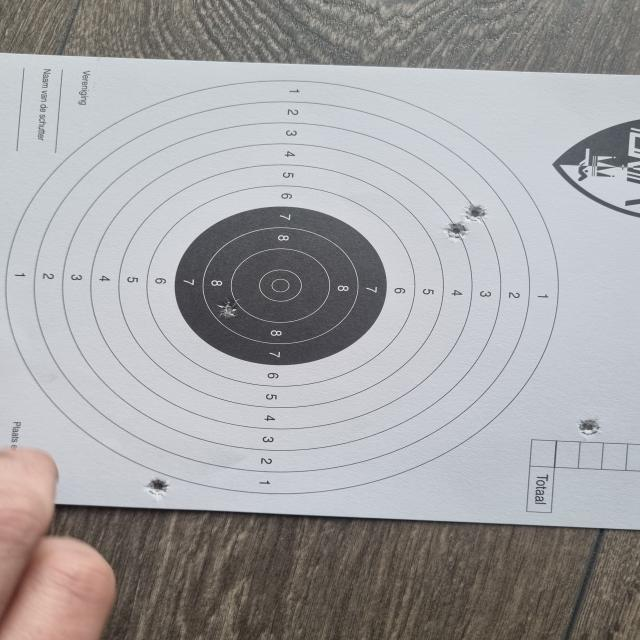0: (145, 478, 169, 496), (578, 419, 601, 436)
3: (464, 205, 488, 221)
4: (442, 222, 470, 239)
9: (216, 298, 240, 319)
Target: (0, 79, 565, 496)
black_contour: (171, 206, 389, 364)
